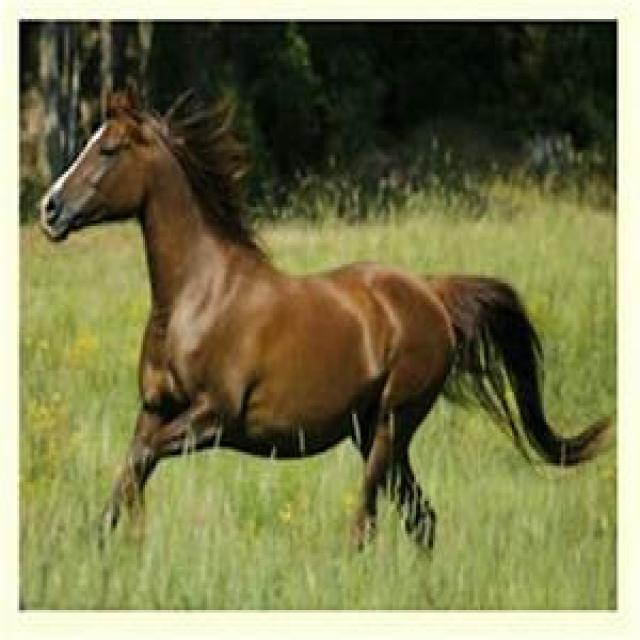horse: (41, 94, 609, 547)
